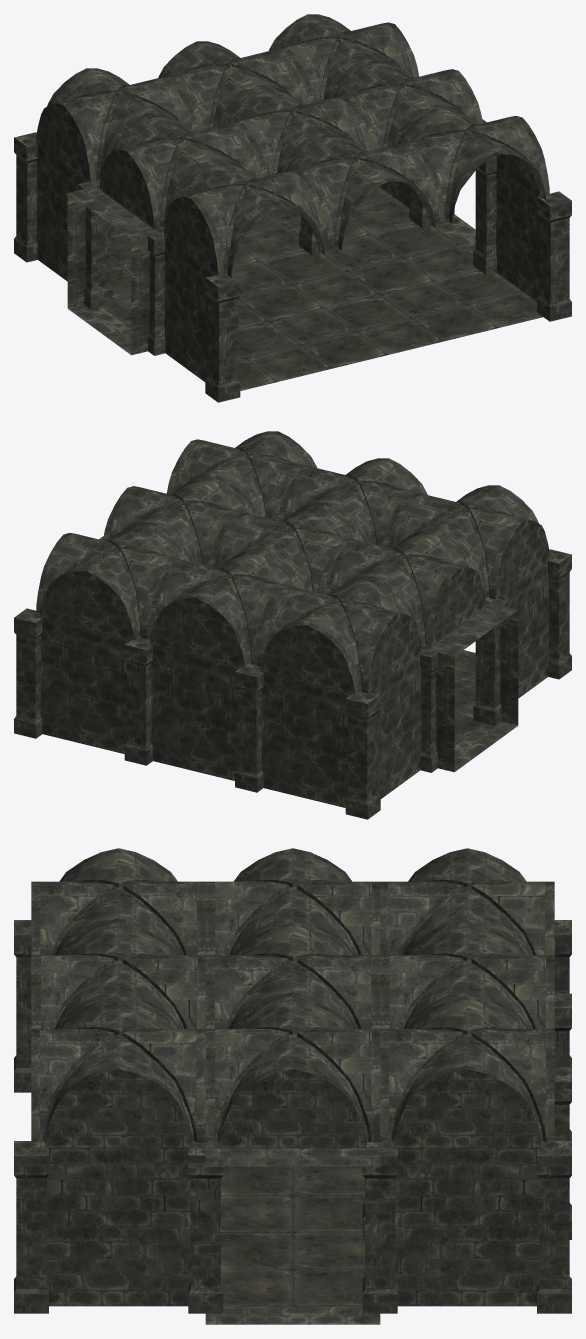
3 views of the same model, one above another, from view 1: azimuth 30°, elevation 25°; view 2: azimuth 150°, elevation 25°; view 3: azimuth 270°, elevation 25° (orthographic). The views are drawn at different scales.
Visible parts, largest first — view 1: ignore, Room.T; view 2: ignore, Room.T; view 3: ignore, Room.T.
Boxes of the visible parts, x1,y1,x2,y2 form: ignore: (14,14,571,402); Room.T: (37,119,542,390); ignore: (14,431,571,819); Room.T: (41,536,548,807); ignore: (14,848,571,1313); Room.T: (46,1148,539,1324).
Size of the model in its own units: 14 by 6 by 12.8.
3 materials, 3 textured.
